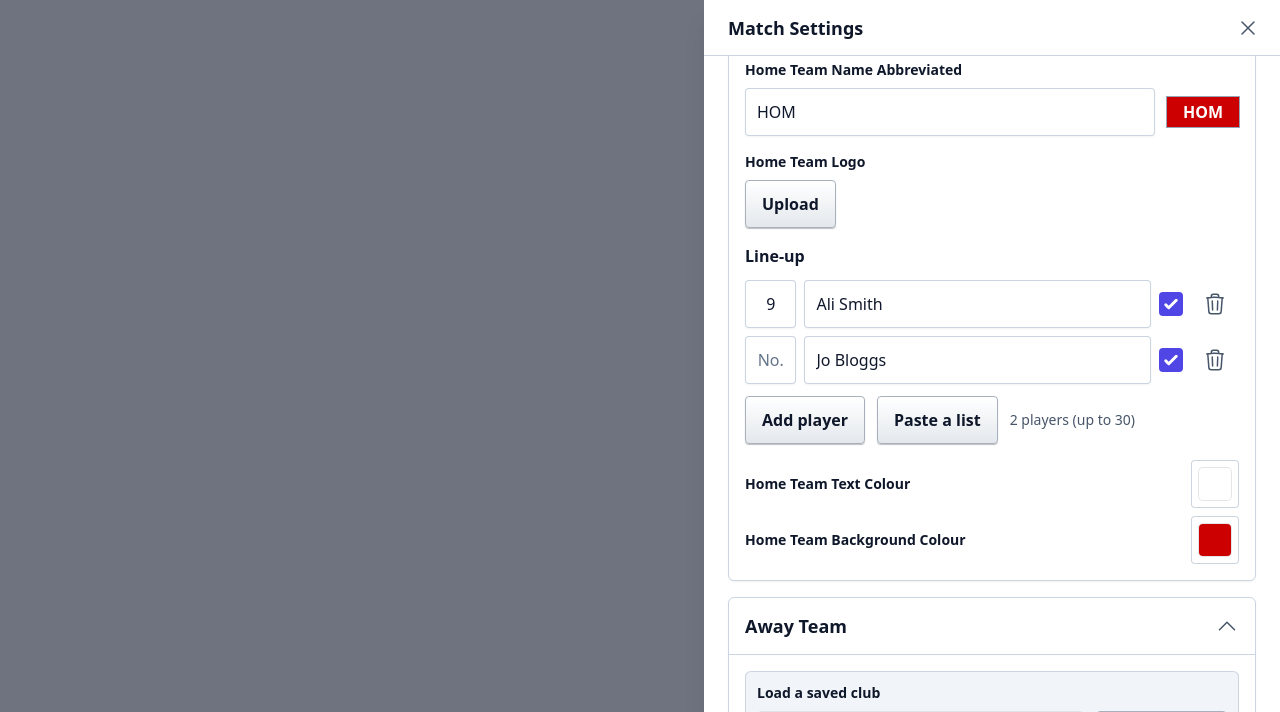
it: Line-up editor › marks a player as a substitute with the Starts box, and back again
(page scrolled)
Expected: the checkbox named "Ali Smith starts" is checked, [1159,292,1183,316]
Expected: the text "on the bench" is not shown
Click the checkbox named "Jo Bloggs starts": (1171, 360) [1159,348,1183,372]
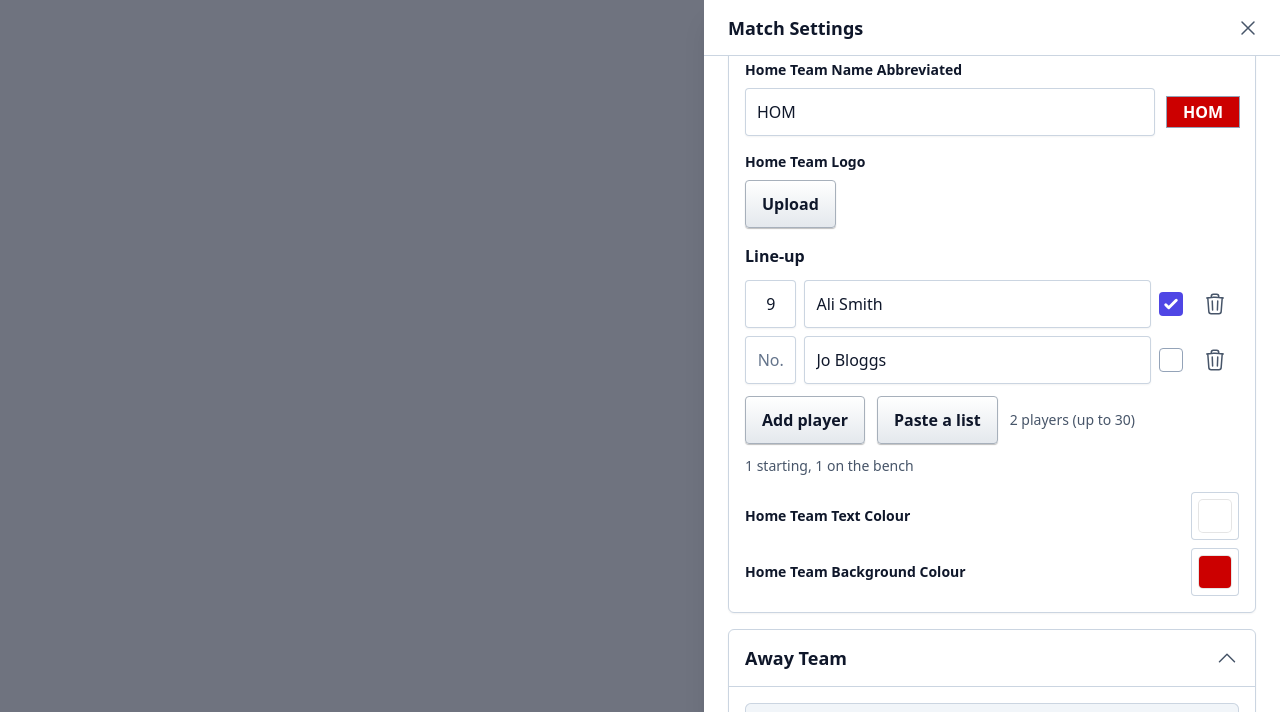
Expected: the text "2 players (up to 30)" is shown, [1010,410,1135,430]
Now the checkbox named "Jo Bloggs starts" is not checked
Now the text "1 starting, 1 on the bench" is shown, box [745,456,914,476]
Note: Back to starting drops the flag, so the stored shape is as before.
Click the checkbox named "Jo Bloggs starts": (1171, 360) [1159,348,1183,372]
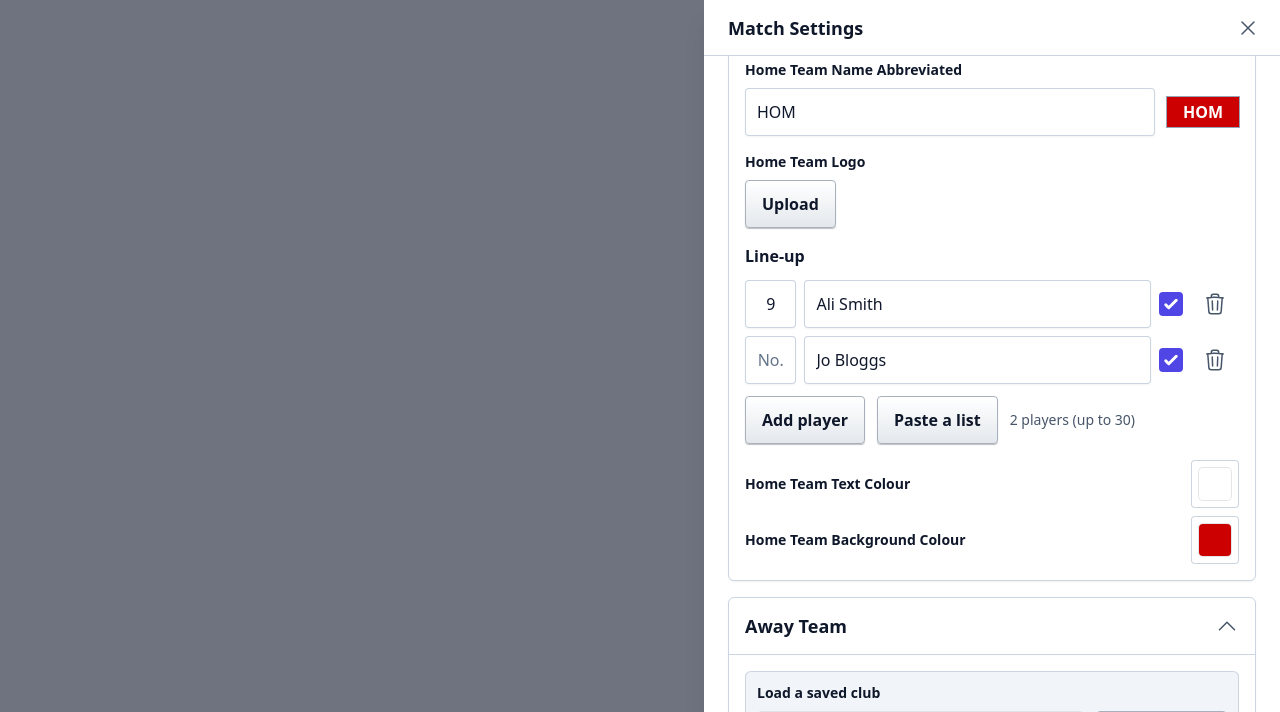
Now the text "on the bench" is gone
